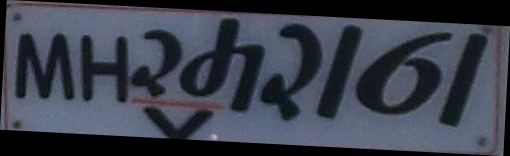character: (11, 30, 77, 104), (78, 30, 132, 104)
